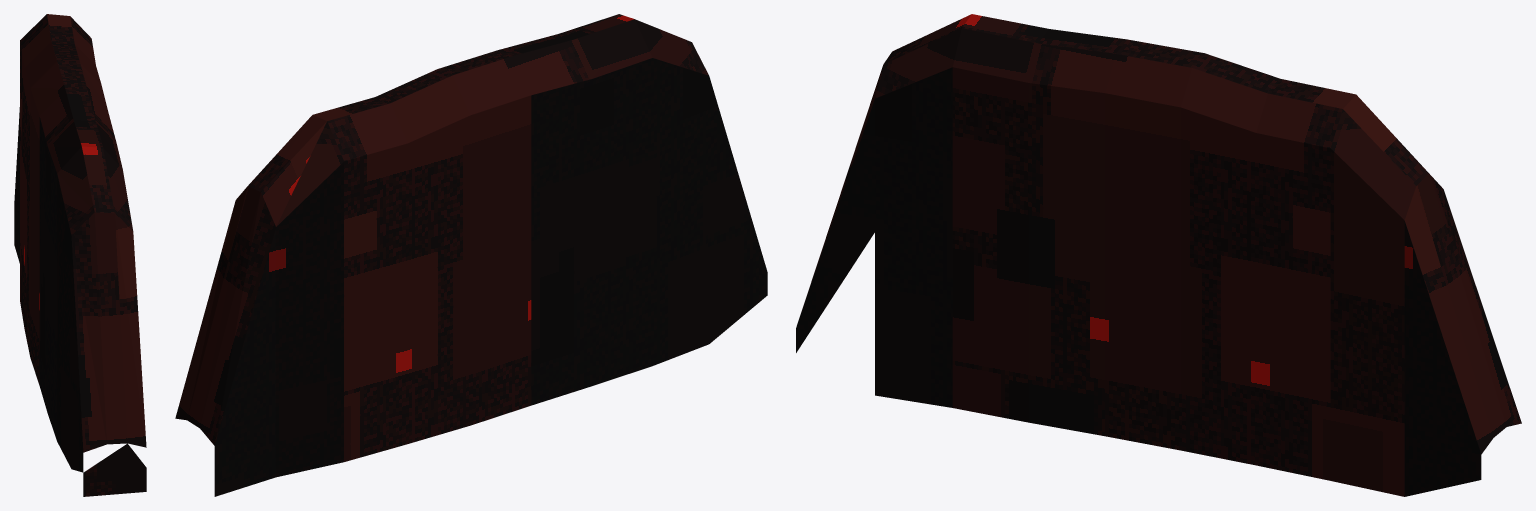
File: map_base_lip204.glb
3 views of the same model, side by side, from view 1: azimuth 30°, elevation 25°; view 2: azimuth 150°, elevation 25°; view 3: azimuth 270°, elevation 25° (orthographic). The views are drawn at different scales.
Visible parts, largest first — view 1: MapBaseLip204Rock; view 2: MapBaseLip204Rock; view 3: MapBaseLip204Rock.
Part boxes in pixels (x1,y1,x2,y2): MapBaseLip204Rock: (14, 14, 146, 496); MapBaseLip204Rock: (175, 14, 767, 496); MapBaseLip204Rock: (796, 14, 1521, 496).
Size of what is drawn, in the model's own units: 3.94 by 4.34 by 7.61.
2 materials, 2 textured.
